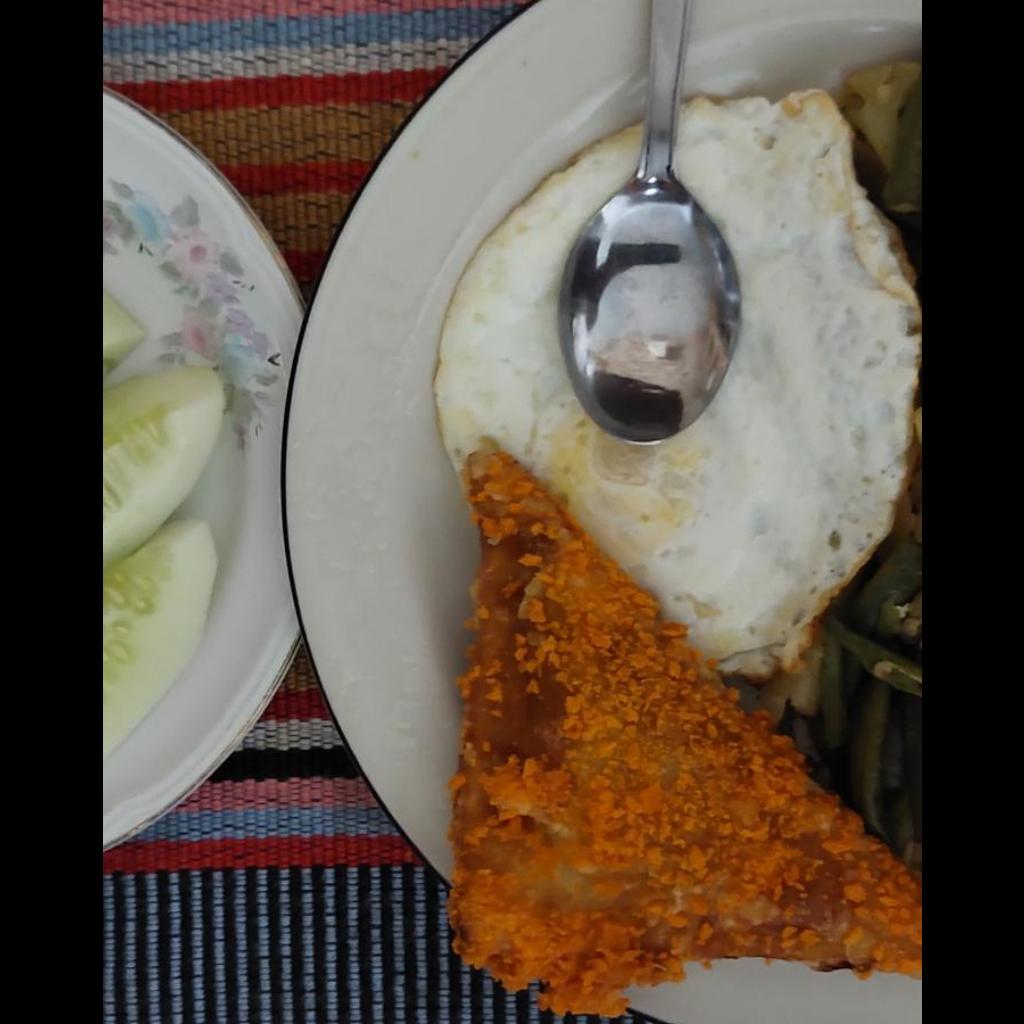cucumber: (102, 369, 224, 757), (102, 291, 141, 375)
egg-poached: (422, 98, 920, 677)
